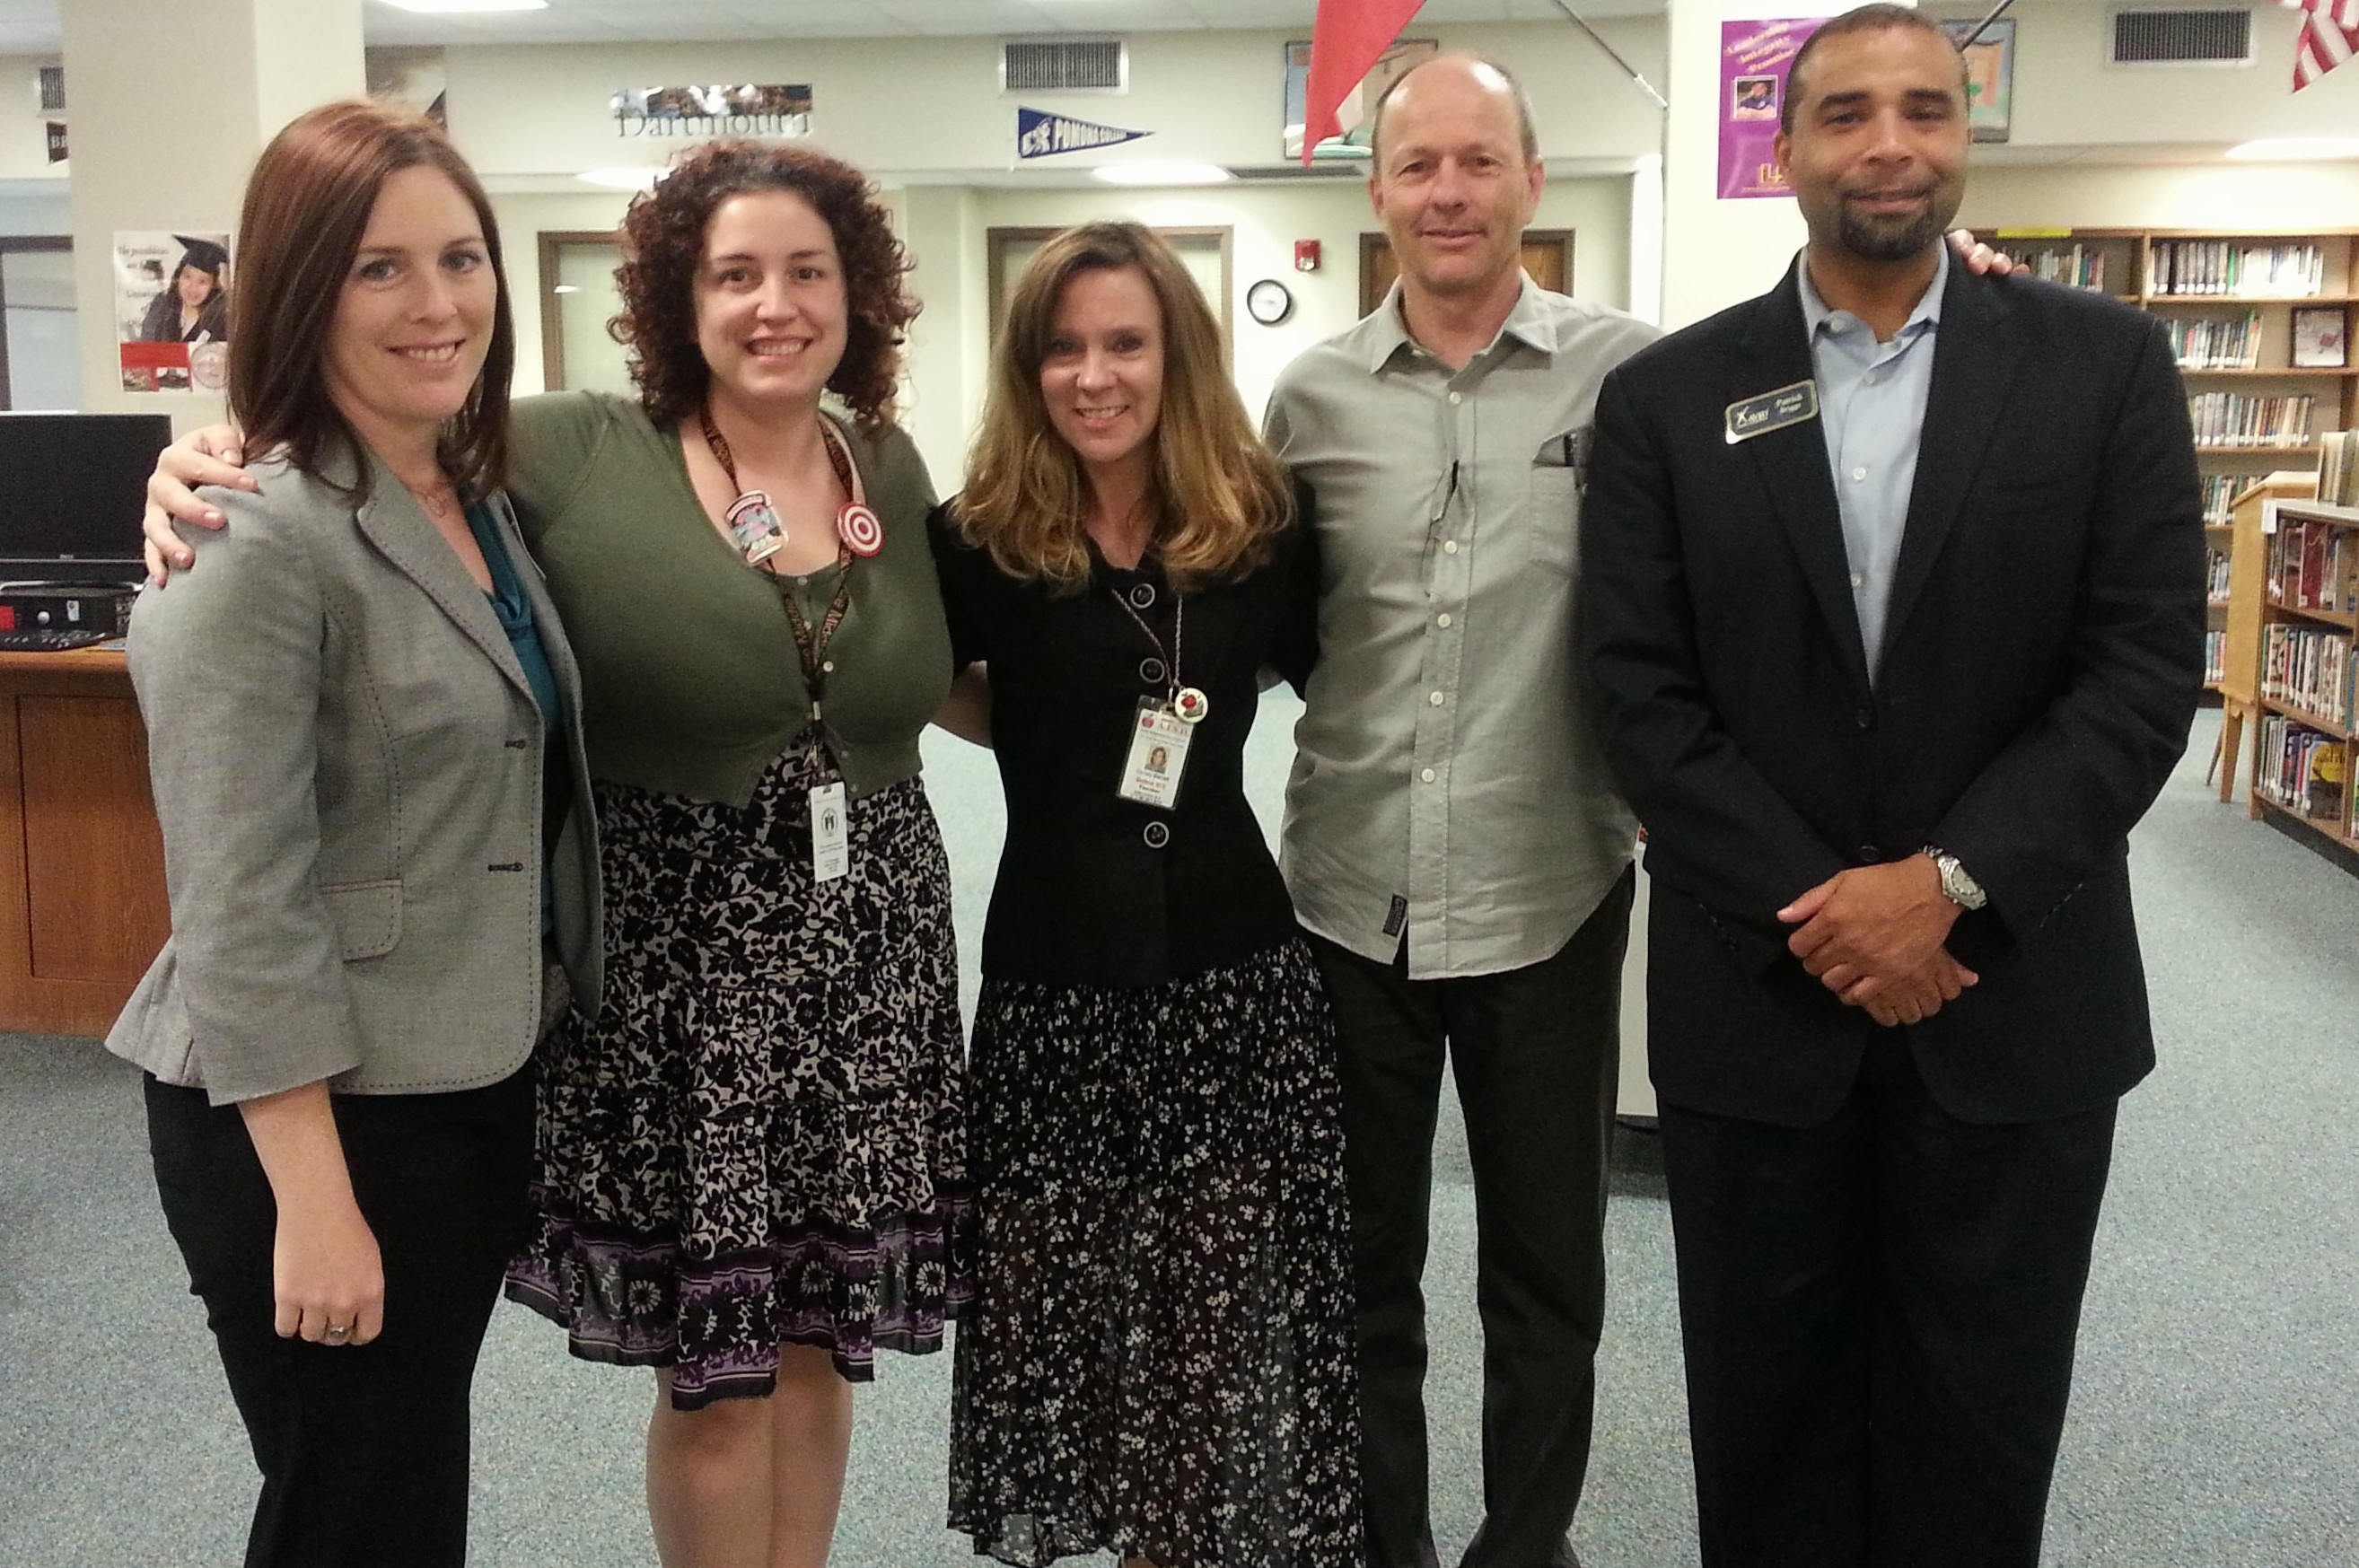head: (235, 96, 496, 462), (620, 134, 906, 431), (991, 221, 1211, 472), (1769, 10, 1986, 257), (1368, 60, 1556, 315)
human: (1583, 4, 2206, 1568), (107, 95, 553, 1568), (495, 134, 951, 1568), (1257, 54, 1638, 1568), (923, 223, 1335, 1568)
